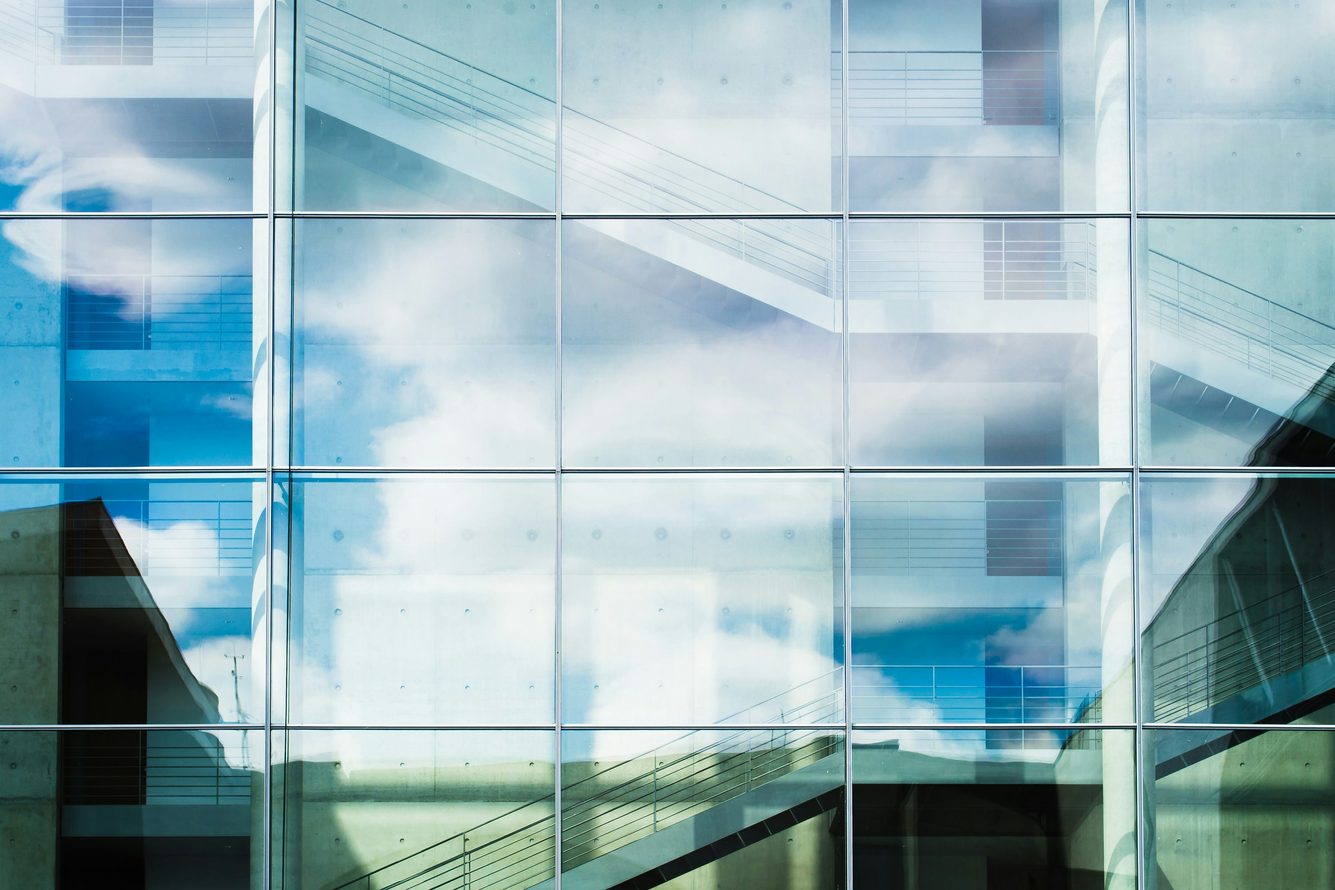glass_panel: (562, 473, 842, 725), (852, 474, 1134, 724), (849, 219, 1131, 466), (277, 475, 555, 725), (562, 220, 843, 467), (0, 476, 267, 724), (0, 219, 268, 466), (291, 218, 555, 468), (562, 0, 841, 214), (848, 0, 1129, 212), (0, 0, 270, 211), (292, 0, 556, 211), (1139, 473, 1335, 724), (1137, 218, 1335, 466), (561, 728, 847, 890), (852, 728, 1137, 890), (273, 730, 554, 890), (0, 729, 264, 890), (1137, 0, 1335, 211), (1144, 729, 1335, 890)
